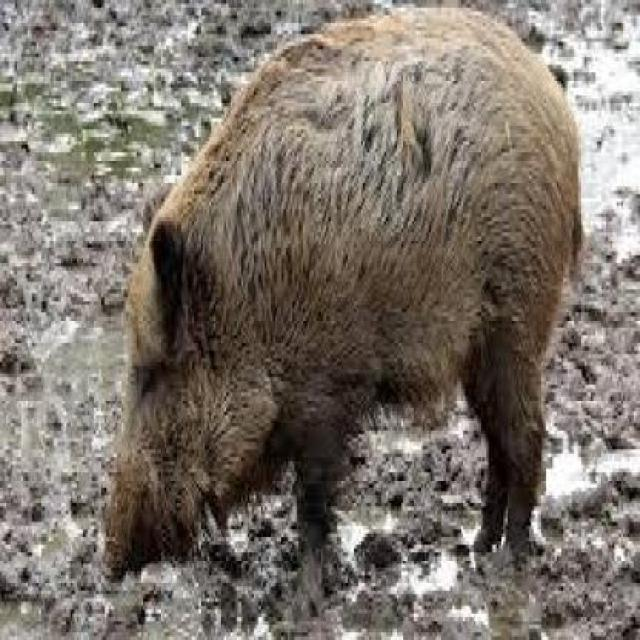wildboar: (94, 1, 591, 598)
